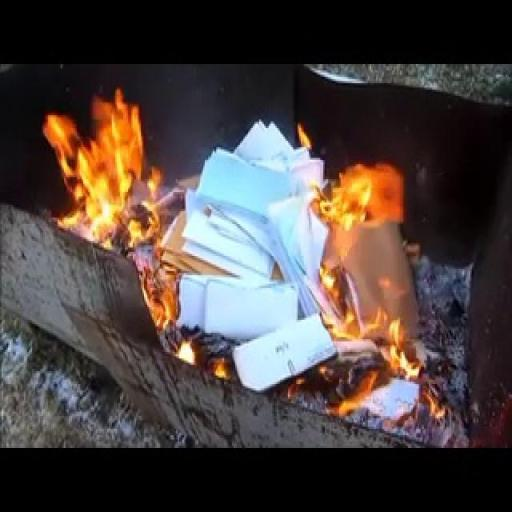smoke: (40, 101, 173, 270), (304, 155, 405, 372)
